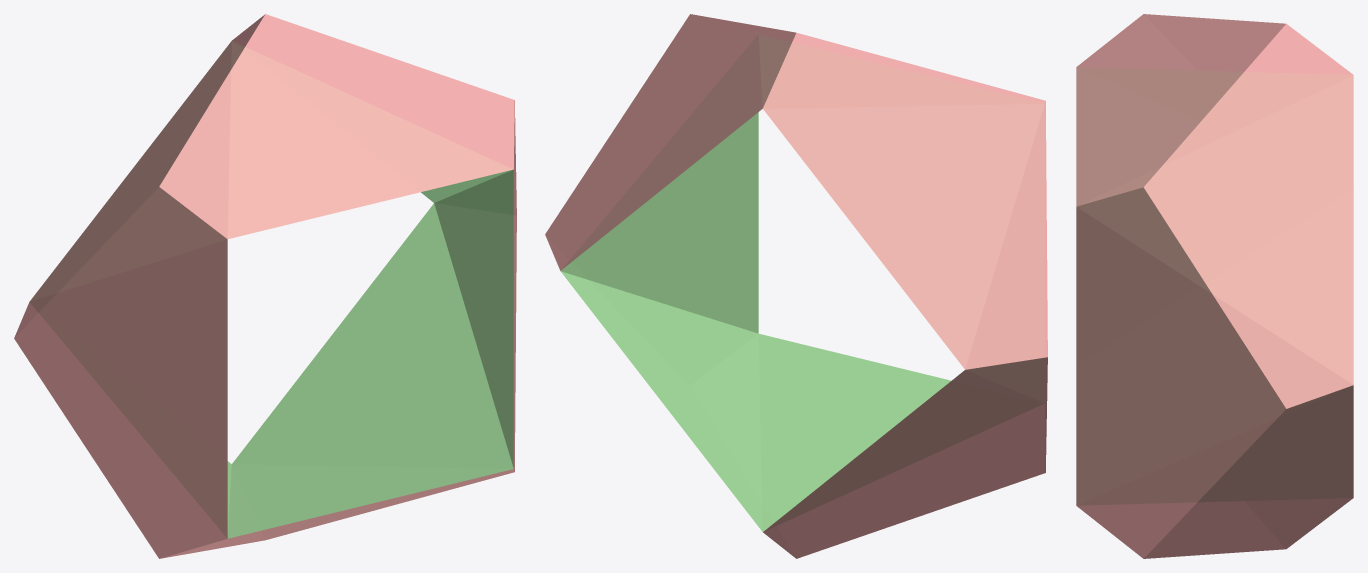
The model's file is TetragonalTrapezohedronAntiprismToroid.obj.
3 renders of one model, left to right at view 1: azimuth 30°, elevation 25°; view 2: azimuth 150°, elevation 25°; view 3: azimuth 270°, elevation 25°, orthographic.
Bounding box in the file's own units: 6.59 × 6.59 × 3.15.
